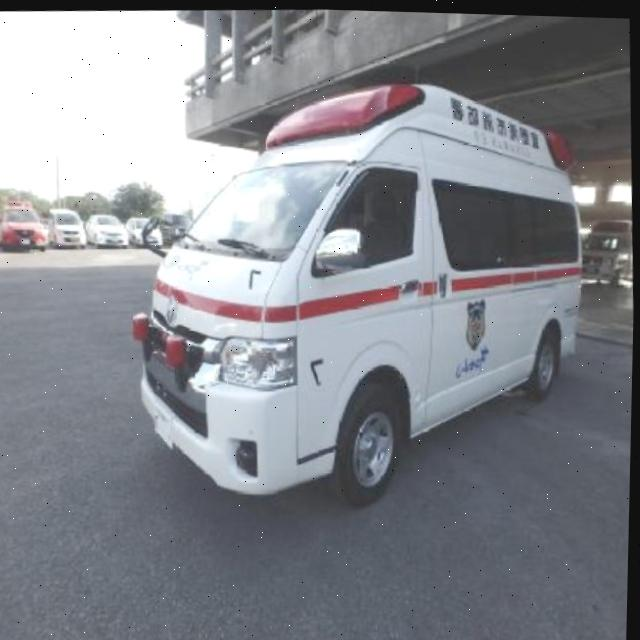emergency: (120, 65, 597, 517)
